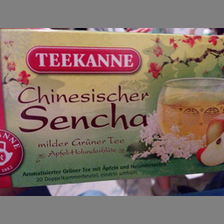tea: (1, 29, 224, 190)
